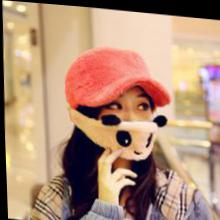WRONG: (87, 83, 160, 158)
